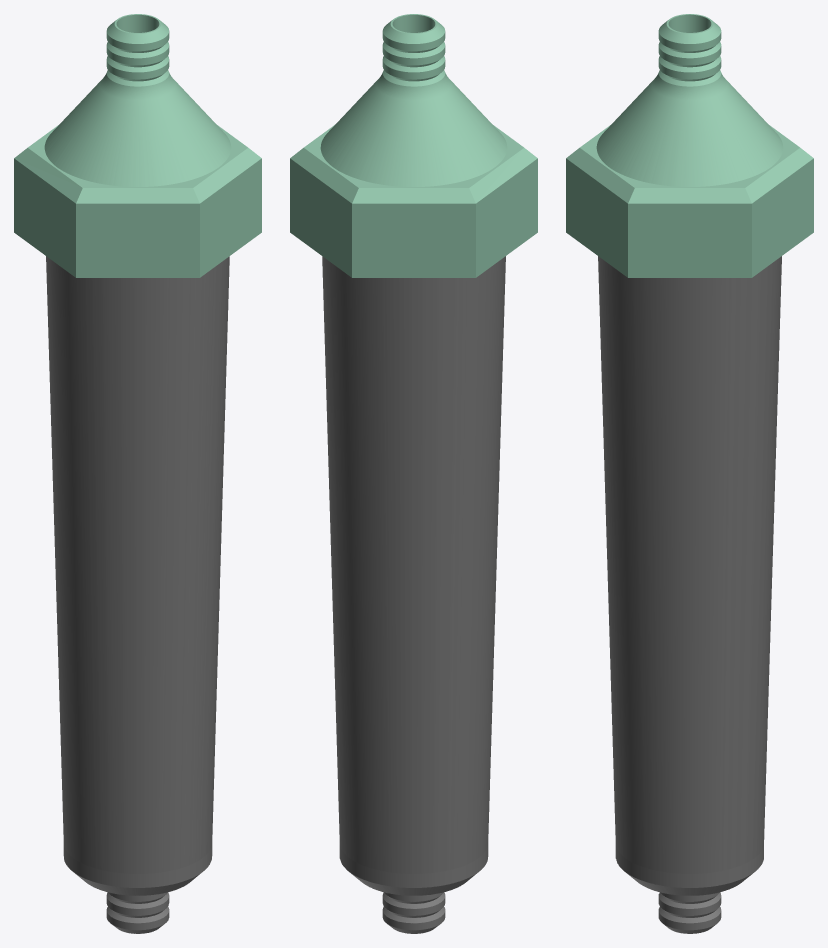
Rendered from filtro.gltf.
The picture shows the model from 3 angles, left to right: view 1: azimuth 30°, elevation 25°; view 2: azimuth 150°, elevation 25°; view 3: azimuth 270°, elevation 25°; orthographic projection.
Parts seen in each view (by area): view 1: Ensamble filtro de agua; view 2: Ensamble filtro de agua; view 3: Ensamble filtro de agua.
Boxes of the visible parts, left/top/right/bottom form: Ensamble filtro de agua: left=14, top=14, right=261, bottom=933; Ensamble filtro de agua: left=290, top=14, right=537, bottom=933; Ensamble filtro de agua: left=566, top=14, right=813, bottom=933.
Bounding box in the file's own units: 17.94 × 83.03 × 20.72.
